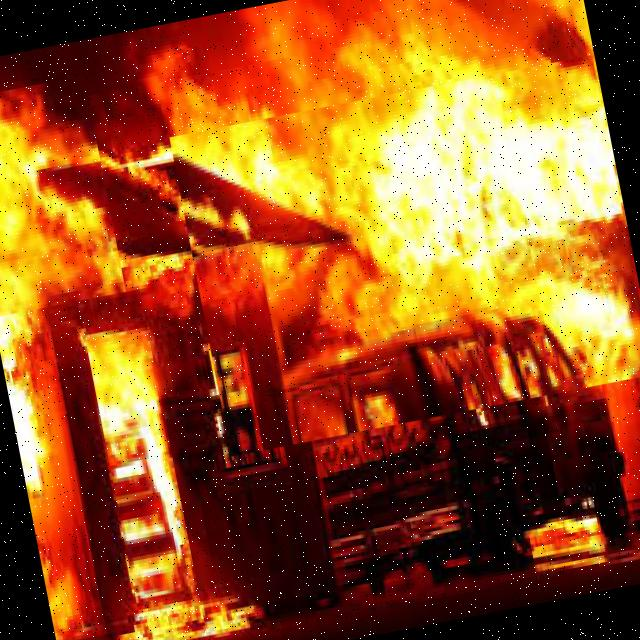fire: (170, 55, 640, 457), (0, 77, 127, 319), (88, 330, 194, 611)
